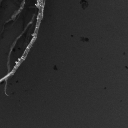corrosion: (80, 1, 90, 10), (81, 36, 89, 43), (52, 65, 58, 71)
